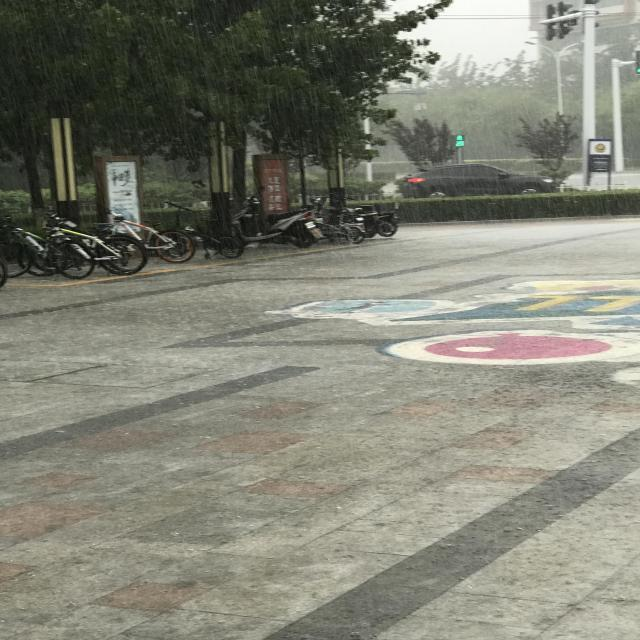car: (158, 75, 202, 236)
